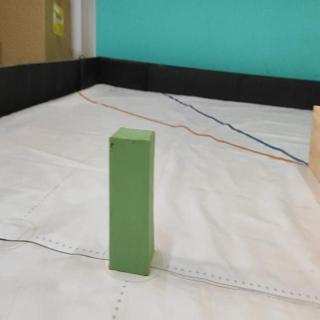greenbox: (109, 126, 155, 274)
